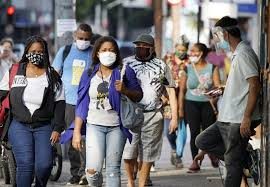with_mask: (25, 44, 45, 66), (97, 45, 117, 65), (76, 32, 91, 48)
